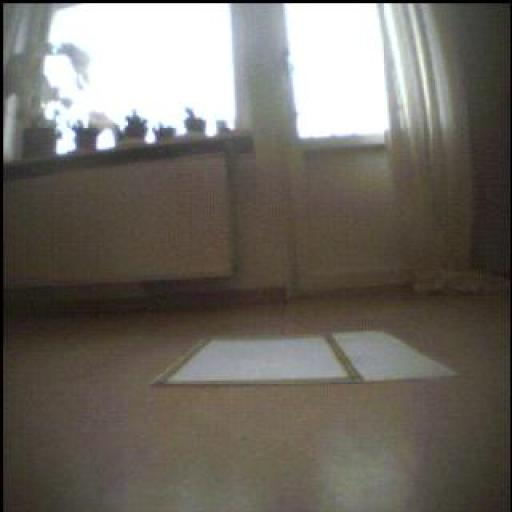Pad: (155, 332, 457, 387)
